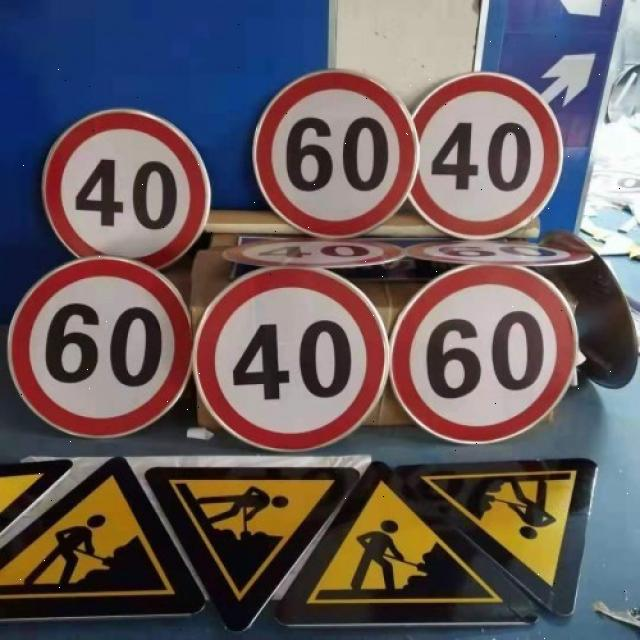speed limit 40: (193, 262, 391, 455), (39, 108, 212, 268), (410, 70, 563, 241)
speed limit 60: (5, 256, 193, 439), (391, 266, 579, 445), (253, 70, 421, 241)
